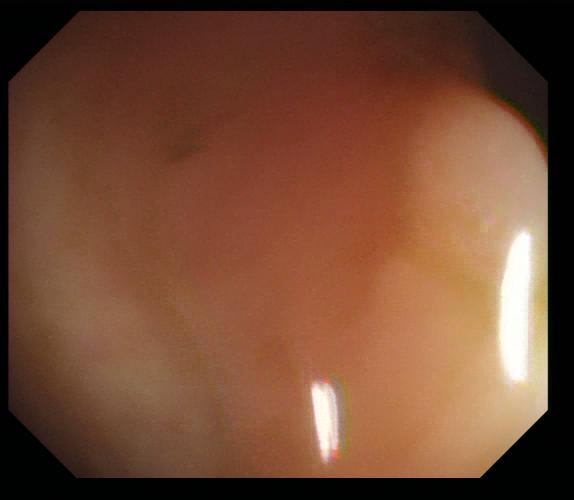polyp: (377, 74, 550, 287)
